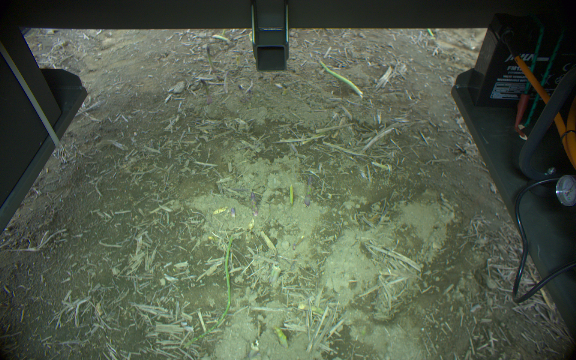aspa: (185, 232, 234, 348), (315, 57, 364, 100), (201, 45, 217, 74), (303, 172, 315, 209), (271, 328, 291, 348), (247, 191, 261, 219), (286, 183, 296, 206)
